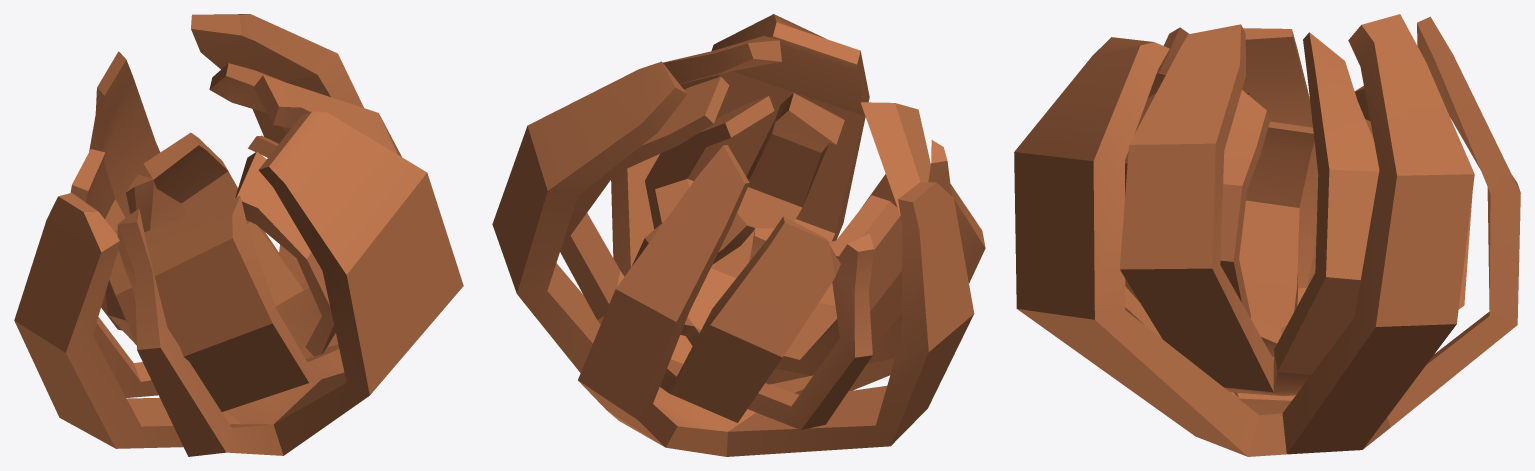
The model's file is Background_Tumbleweed.fbx.
The picture shows the model from 3 angles, left to right: view 1: azimuth 30°, elevation 25°; view 2: azimuth 150°, elevation 25°; view 3: azimuth 270°, elevation 25°; orthographic projection. The views are drawn at different scales.
Visible parts, largest first — view 1: Background_TumbleWeed; view 2: Background_TumbleWeed; view 3: Background_TumbleWeed.
Boxes of the visible parts, x1=… form: Background_TumbleWeed: x1=14, y1=14, x2=463, y2=456; Background_TumbleWeed: x1=492, y1=14, x2=985, y2=456; Background_TumbleWeed: x1=1014, y1=14, x2=1520, y2=456.
Bounding box in the file's own units: 231 × 226 × 212.
